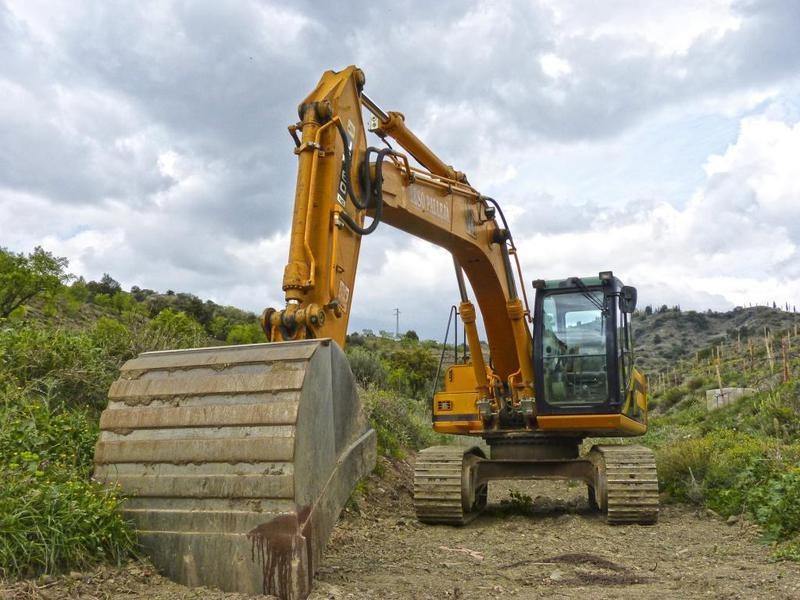shovel: (87, 56, 666, 599)
